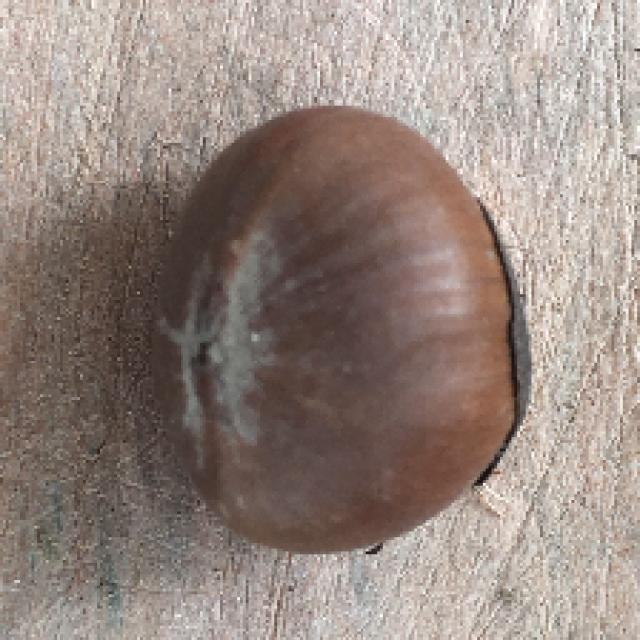DamagedHazelnut: (148, 102, 538, 554)
